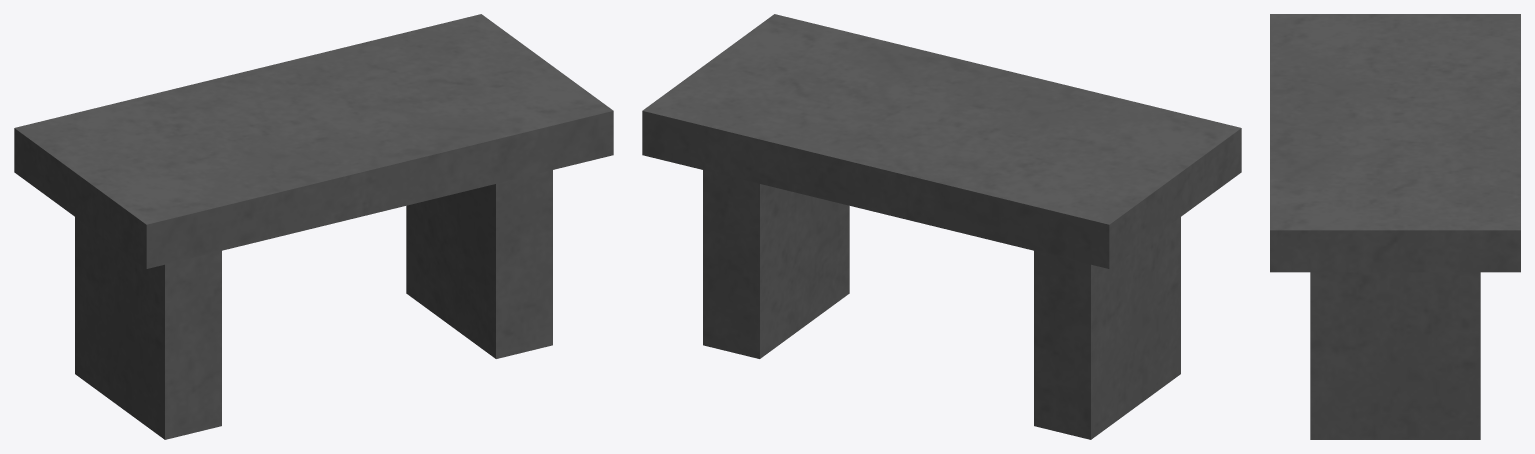
File: desk_engineready.fbx
3 renders of one model, left to right at view 1: azimuth 30°, elevation 25°; view 2: azimuth 150°, elevation 25°; view 3: azimuth 270°, elevation 25°, orthographic. The views are drawn at different scales.
Parts seen in each view (by area): view 1: desk1_pCube4; view 2: desk1_pCube4; view 3: desk1_pCube4.
Part boxes in pixels (x1,y1,x2,y2): desk1_pCube4: (14, 14, 613, 439); desk1_pCube4: (642, 14, 1241, 439); desk1_pCube4: (1270, 14, 1520, 439).
Size of the model in its own units: 1.66 by 0.8159 by 0.8138.
